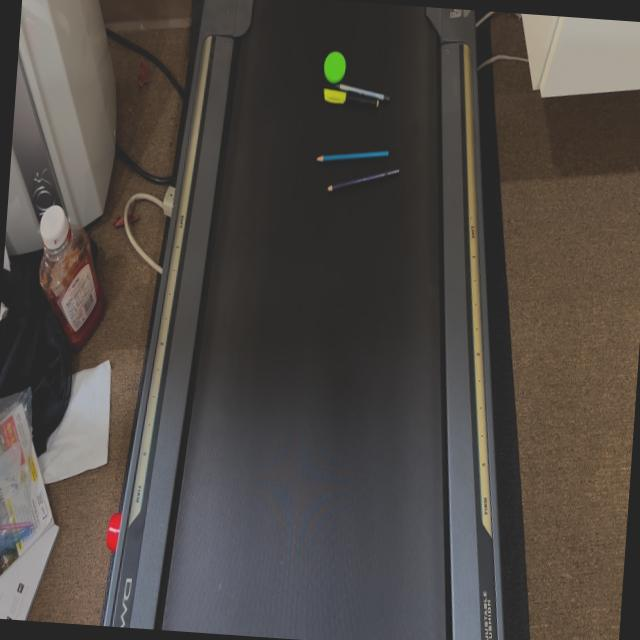Trash: (299, 142, 432, 212), (312, 46, 407, 122)
